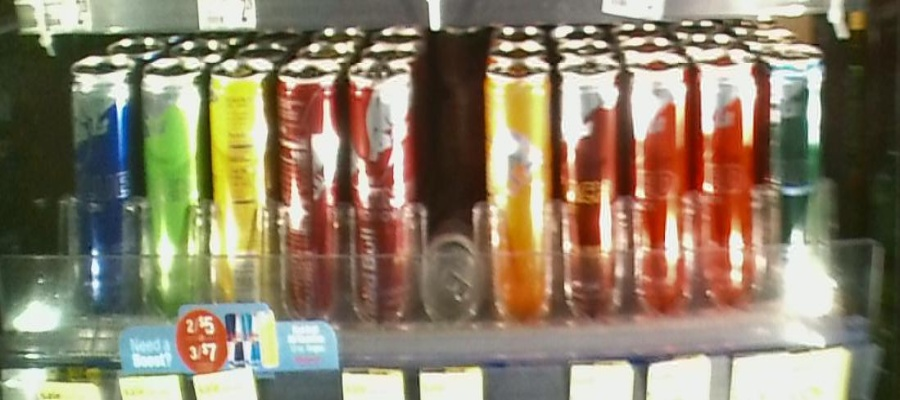bottle: (480, 51, 558, 323), (348, 46, 418, 341), (765, 27, 833, 325), (68, 50, 137, 331), (208, 59, 278, 334), (627, 49, 696, 325), (143, 51, 204, 331), (281, 57, 343, 329), (563, 46, 622, 328), (702, 43, 762, 317)
